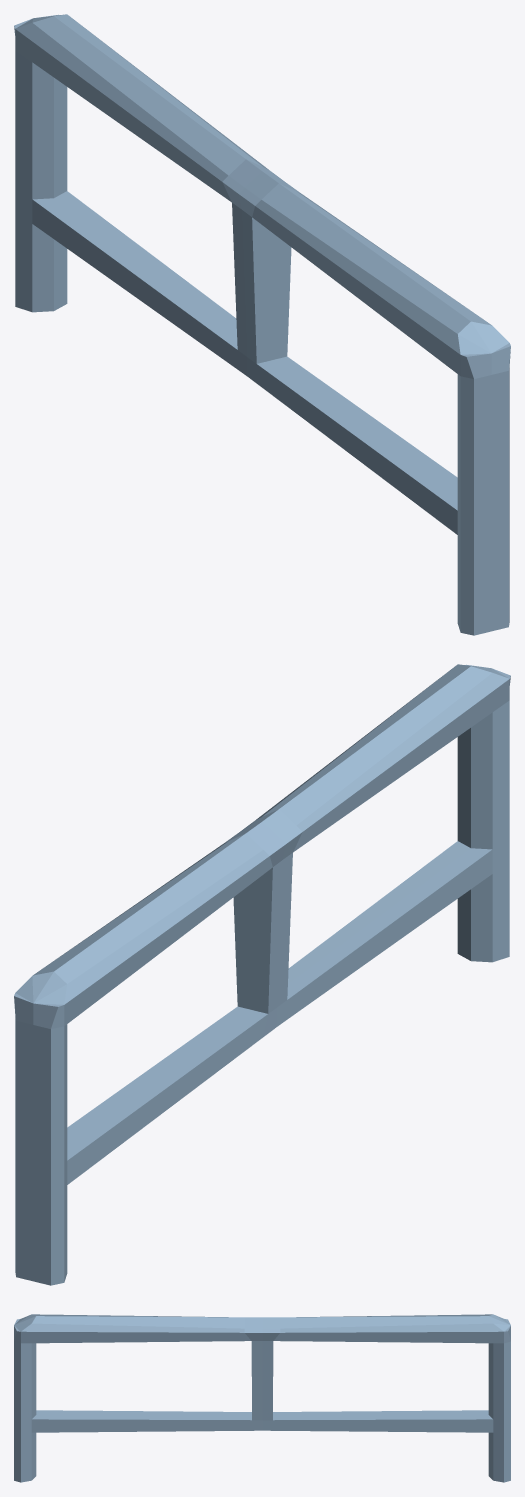
The model's file is rails.fbx.
3 views of the same model, one above another, from view 1: azimuth 30°, elevation 25°; view 2: azimuth 150°, elevation 25°; view 3: azimuth 270°, elevation 25° (orthographic). The views are drawn at different scales.
Visible parts, largest first — view 1: Cylinder; view 2: Cylinder; view 3: Cylinder.
Boxes of the visible parts, x1,y1,x2,y2 form: Cylinder: (14, 14, 510, 635); Cylinder: (14, 664, 510, 1285); Cylinder: (14, 1314, 510, 1482).
Bounding box in the file's own units: 20.26 × 116 × 327.
